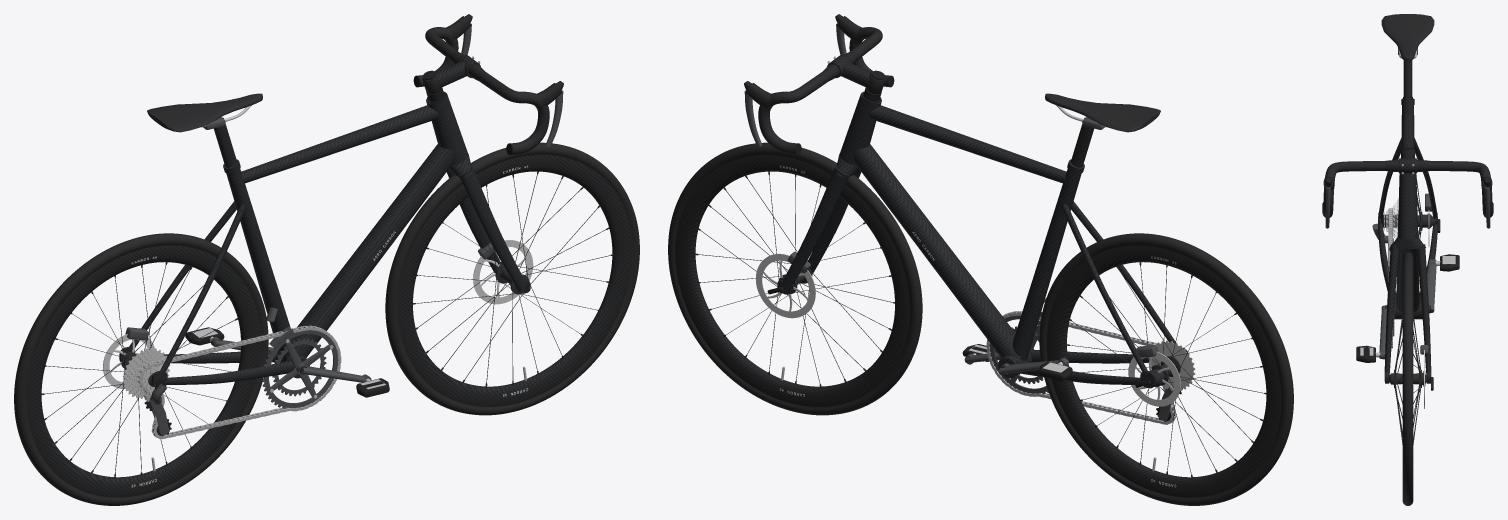
The model's file is bike.glb.
3 renders of one model, left to right at view 1: azimuth 30°, elevation 25°; view 2: azimuth 150°, elevation 25°; view 3: azimuth 270°, elevation 25°, orthographic. The views are drawn at different scales.
Parts seen in each view (by area): view 1: frame_geo, wheel_rear_geo, wheel_front_geo, bars_geo, crank_geo; view 2: frame_geo, wheel_rear_geo, wheel_front_geo, bars_geo, crank_geo; view 3: frame_geo, wheel_front_geo, bars_geo, crank_geo, wheel_rear_geo, pedal_left_geo, pedal_right_geo.
Part boxes in pixels (box(x1,y1,x2,y2)): frame_geo: box(119, 87, 530, 439); wheel_rear_geo: box(14, 233, 268, 505); wheel_front_geo: box(385, 142, 639, 415); bars_geo: box(413, 14, 563, 154); crank_geo: box(210, 326, 371, 408); frame_geo: box(767, 87, 1187, 424); wheel_rear_geo: box(1039, 233, 1293, 505); wheel_front_geo: box(668, 142, 922, 415); bars_geo: box(744, 14, 894, 154); crank_geo: box(964, 312, 1068, 394); frame_geo: box(1372, 14, 1440, 390); wheel_front_geo: box(1389, 252, 1426, 505); bars_geo: box(1322, 147, 1493, 228); crank_geo: box(1379, 259, 1436, 359); wheel_rear_geo: box(1381, 97, 1434, 246); pedal_left_geo: box(1435, 254, 1459, 271); pedal_right_geo: box(1356, 345, 1380, 362).
Size of the model in its own units: 1.67 by 0.9706 by 0.4576.
16 materials, 3 textured.
